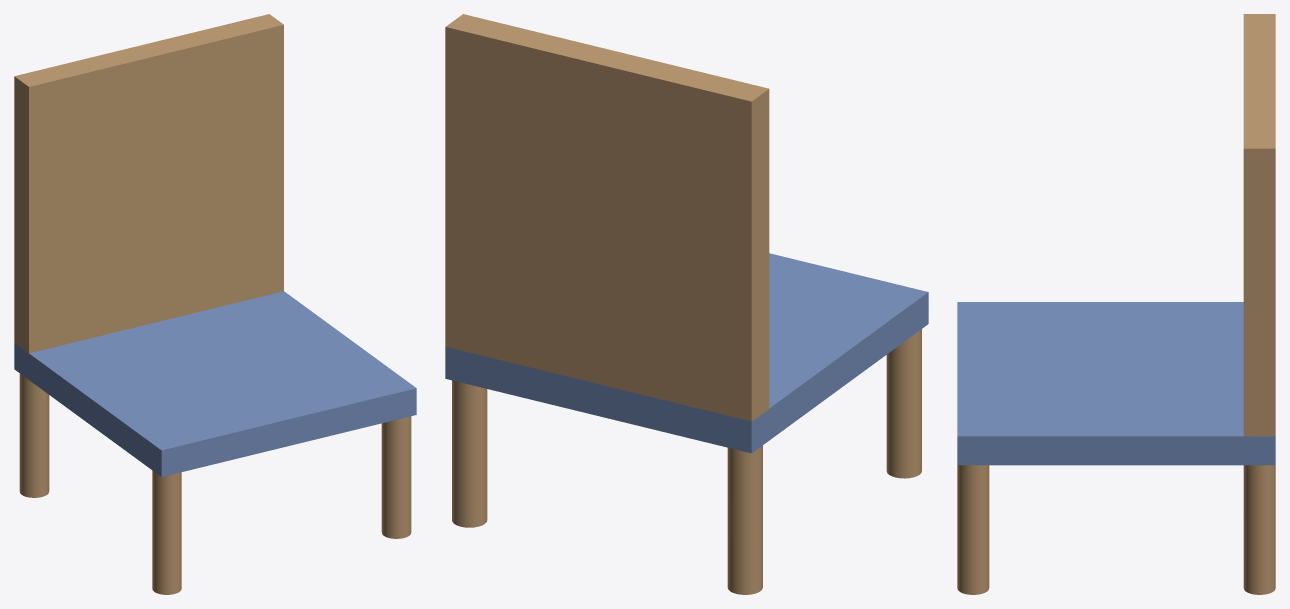
Rendered from chair_array.glb.
The picture shows the model from 3 angles, left to right: view 1: azimuth 30°, elevation 25°; view 2: azimuth 150°, elevation 25°; view 3: azimuth 270°, elevation 25°; orthographic projection. The views are drawn at different scales.
Visible parts, largest first — view 1: back, seat, leg (×3); view 2: back, seat, leg (×3); view 3: seat, back, leg (×2).
Boxes of the visible parts, box(x1,y1,x2,y2) form: back: box(14, 14, 283, 353); seat: box(14, 291, 416, 476); leg (×3): box(19, 373, 411, 594); back: box(445, 14, 769, 421); seat: box(445, 253, 928, 453); leg (×3): box(452, 329, 921, 594); seat: box(957, 302, 1275, 465); back: box(1243, 14, 1275, 436); leg (×2): box(957, 465, 1275, 594).
Bounding box in the file's own units: 1 × 1.55 × 1.
